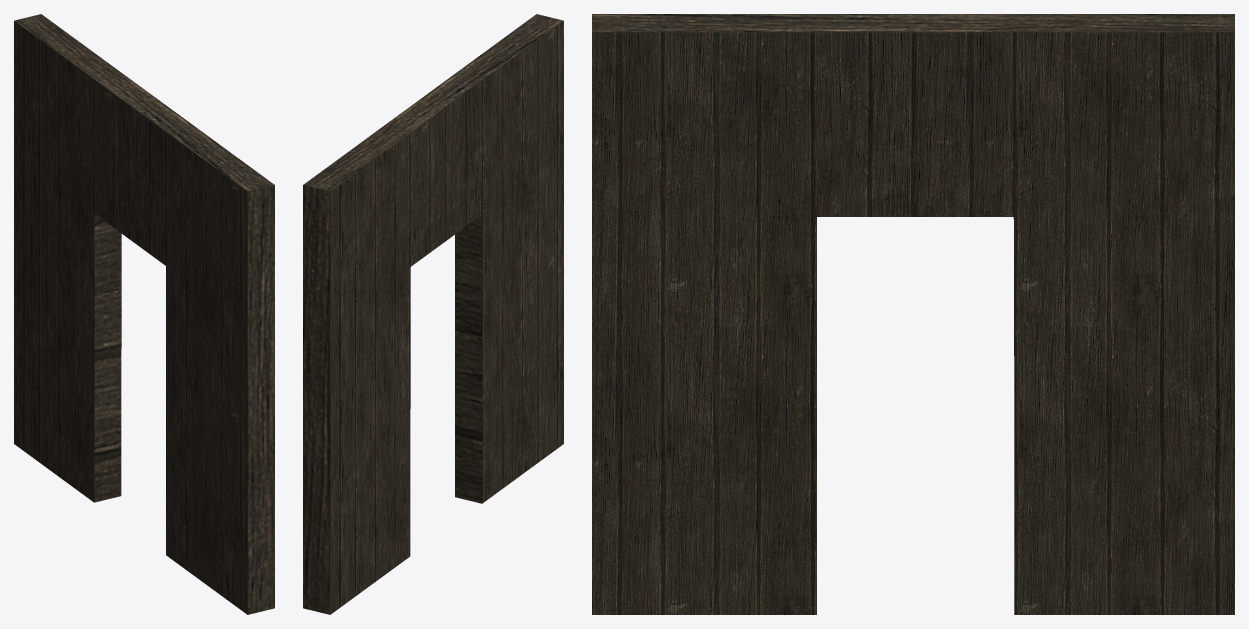
The model's file is WoodenPlankWall(Doorway).fbx.
The picture shows the model from 3 angles, left to right: view 1: azimuth 30°, elevation 25°; view 2: azimuth 150°, elevation 25°; view 3: azimuth 270°, elevation 25°; orthographic projection. The views are drawn at different scales.
Visible parts, largest first — view 1: Cube; view 2: Cube; view 3: Cube.
Boxes of the visible parts, x1,y1,x2,y2 form: Cube: [14, 14, 274, 614]; Cube: [303, 14, 563, 614]; Cube: [592, 14, 1234, 614].
Size of the model in its own units: 20.19 by 300 by 300.
1 material, 1 textured.
